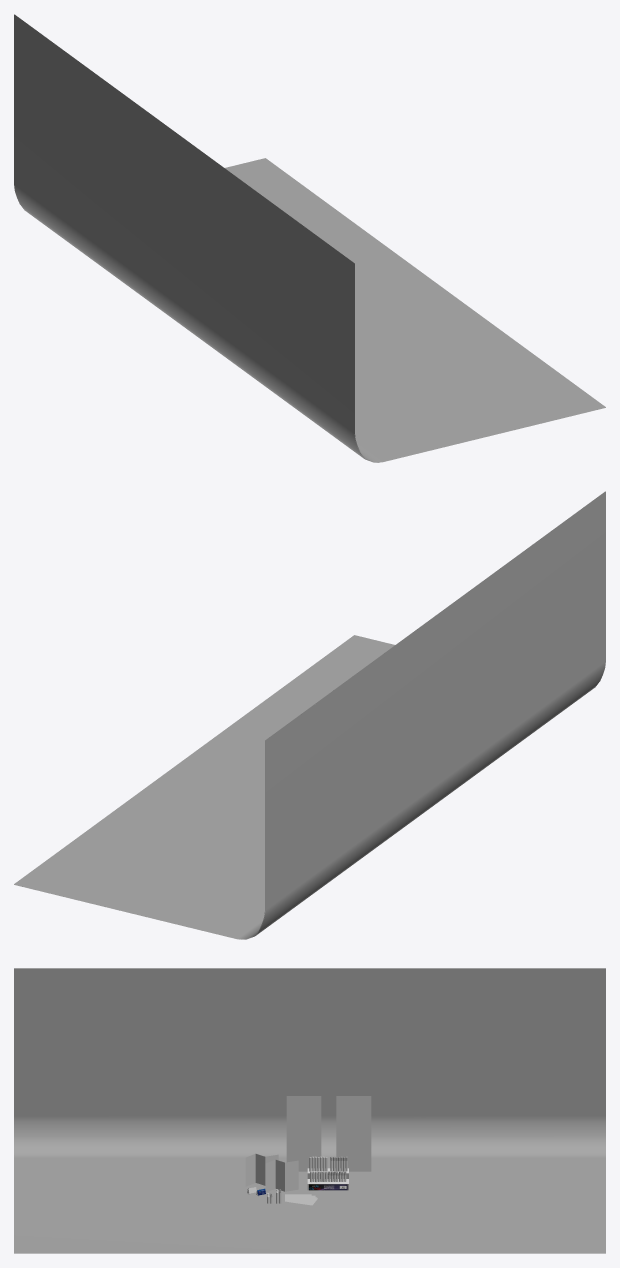
File: STRYDE_ProductDisplay_and_Collateral.fbx
The picture shows the model from 3 angles, top to bottom: view 1: azimuth 30°, elevation 25°; view 2: azimuth 150°, elevation 25°; view 3: azimuth 270°, elevation 25°; orthographic projection. The views are drawn at different scales.
Parts seen in each view (by area): view 1: FLOOR1; view 2: FLOOR1; view 3: FLOOR1, BANNER_2, BANNER_1, Brochure, DISPLLAY_BOTTLES, Brochure1, DISPLAY_STANDS.
Boxes of the visible parts, x1,y1,x2,y2 form: FLOOR1: [14, 14, 605, 462]; FLOOR1: [14, 491, 605, 939]; FLOOR1: [14, 968, 605, 1253]; BANNER_2: [336, 1096, 371, 1171]; BANNER_1: [286, 1096, 321, 1171]; Brochure: [265, 1159, 298, 1192]; DISPLLAY_BOTTLES: [309, 1156, 347, 1182]; Brochure1: [245, 1153, 278, 1186]; DISPLAY_STANDS: [307, 1168, 348, 1190].
Size of the model in its own units: 211 by 165 by 495.
